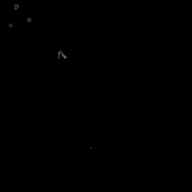v: (6, 2, 33, 29)
